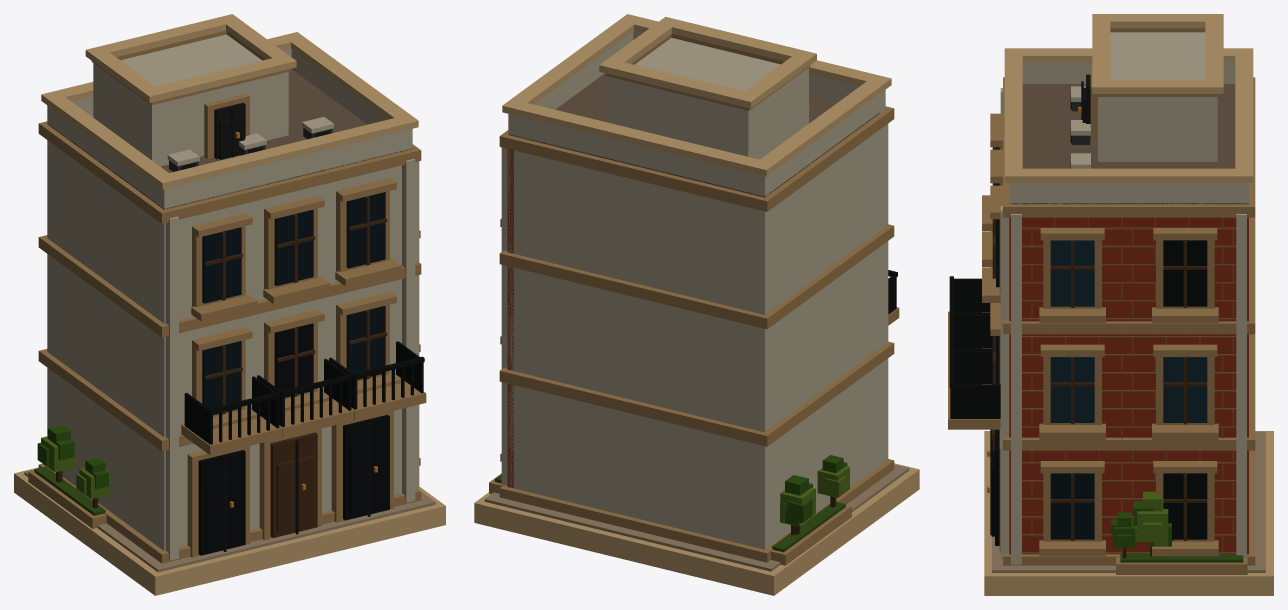
File: SM_Mapa_003.fbx
The picture shows the model from 3 angles, left to right: view 1: azimuth 30°, elevation 25°; view 2: azimuth 150°, elevation 25°; view 3: azimuth 270°, elevation 25°; orthographic projection. The views are drawn at different scales.
Visible parts, largest first — view 1: SM_Mapa_003; view 2: SM_Mapa_003; view 3: SM_Mapa_003.
Part boxes in pixels (<box>): SM_Mapa_003: <box>14,14,445,595</box>; SM_Mapa_003: <box>474,14,919,595</box>; SM_Mapa_003: <box>948,14,1273,595</box>.
Bounding box in the file's own units: 8 × 7.41 × 11.56.
